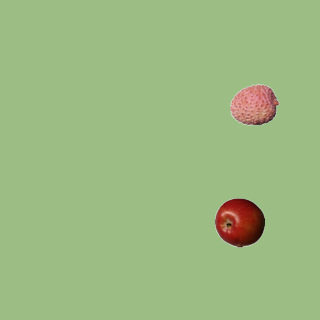Apple Braeburn: (214, 197, 264, 247)
Lychee: (229, 79, 279, 129)
